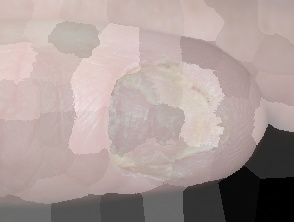Nail_psoriasis: (67, 32, 263, 219)
